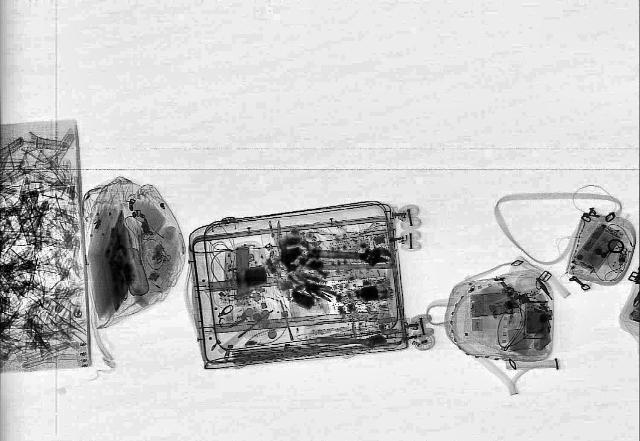Wrench: (302, 240, 392, 270), (314, 334, 388, 350)
